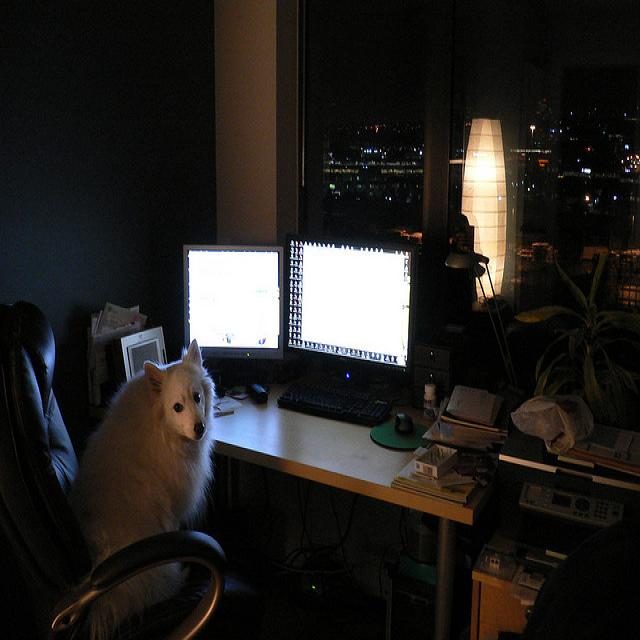Dog: (64, 352, 244, 610)
